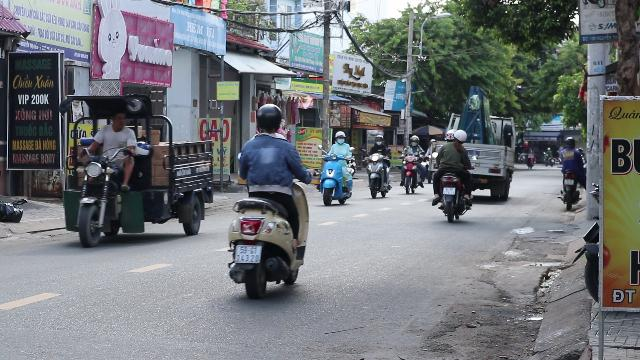helmet: (254, 103, 282, 132)
licenseplate: (235, 245, 261, 263)
motorcyclist: (224, 102, 312, 300)
